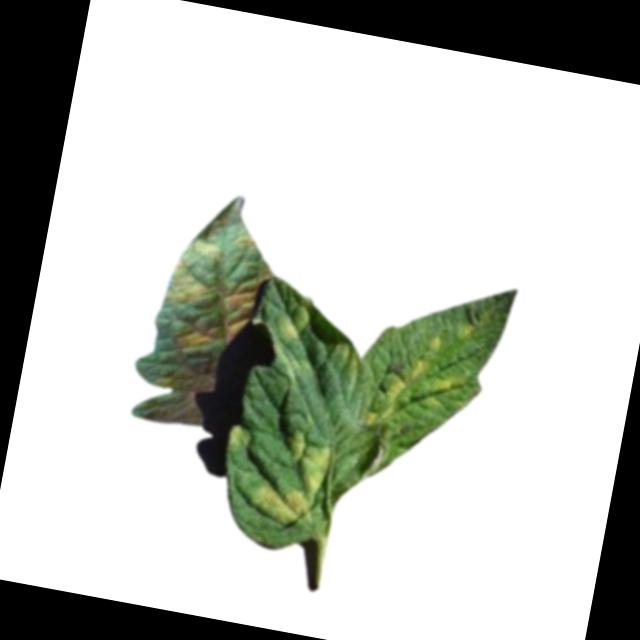Leaf_Mold: (152, 219, 280, 363), (361, 326, 470, 440), (252, 421, 334, 532), (268, 297, 313, 341), (222, 424, 249, 453)
